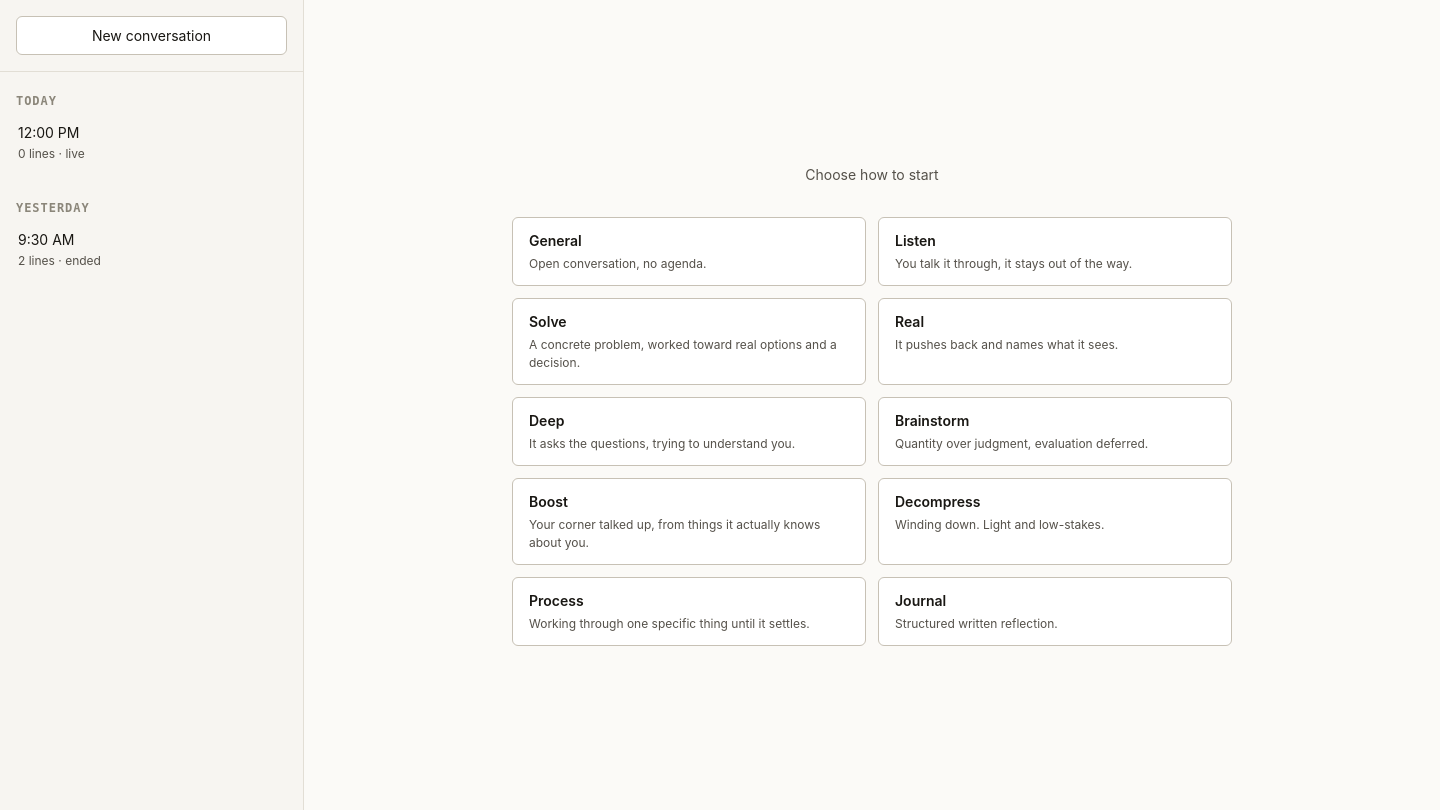
Test: Conversations › coalesces two consecutive text events into a single assistant message
The image size is (1440, 810).
Step 1. Click the button "general Open conversation, no agenda." → (555, 240), box [512,217,866,286]
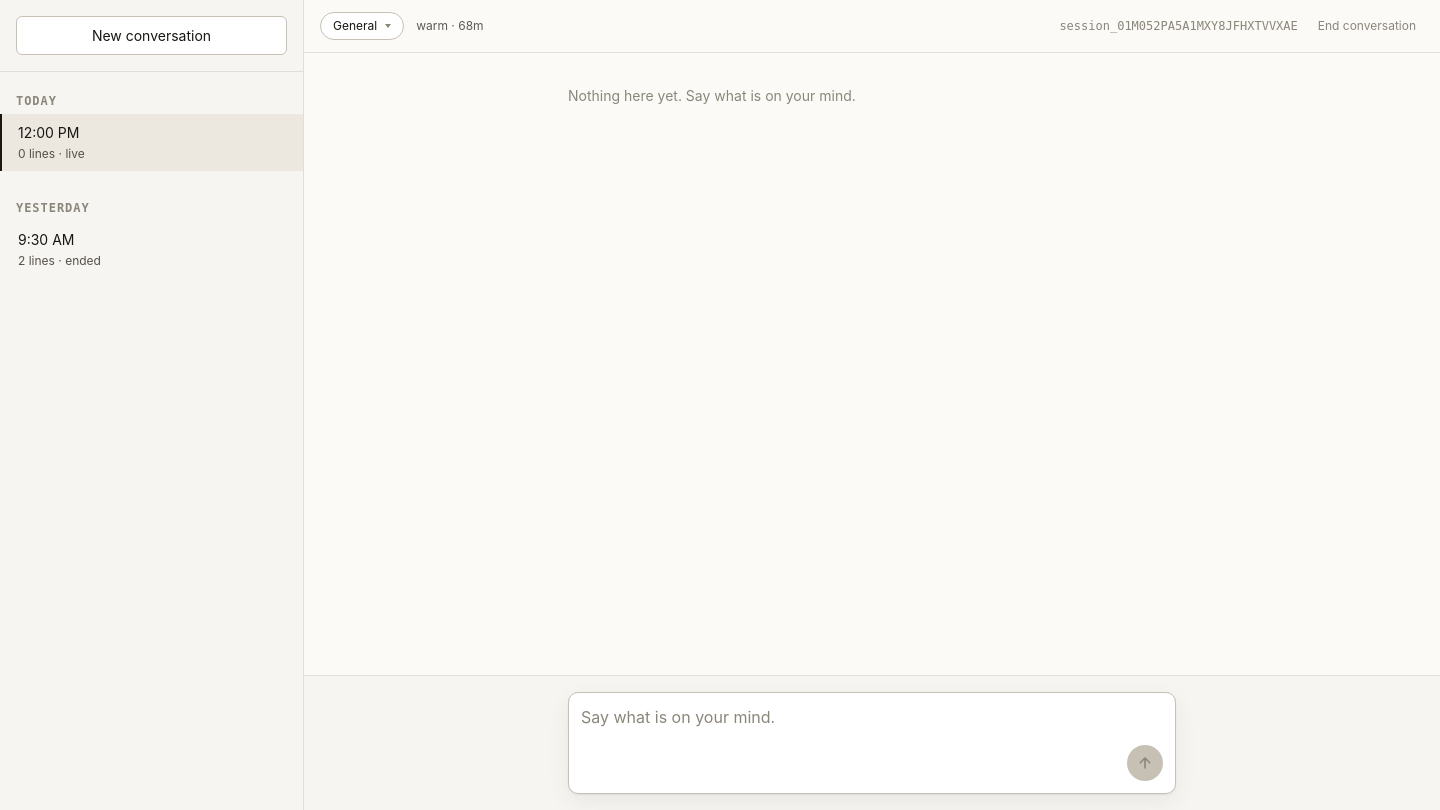
Step 2. Type "Hi" into the text box named "Message" → (854, 743), box [581,705,1127,781]
Then press Enter
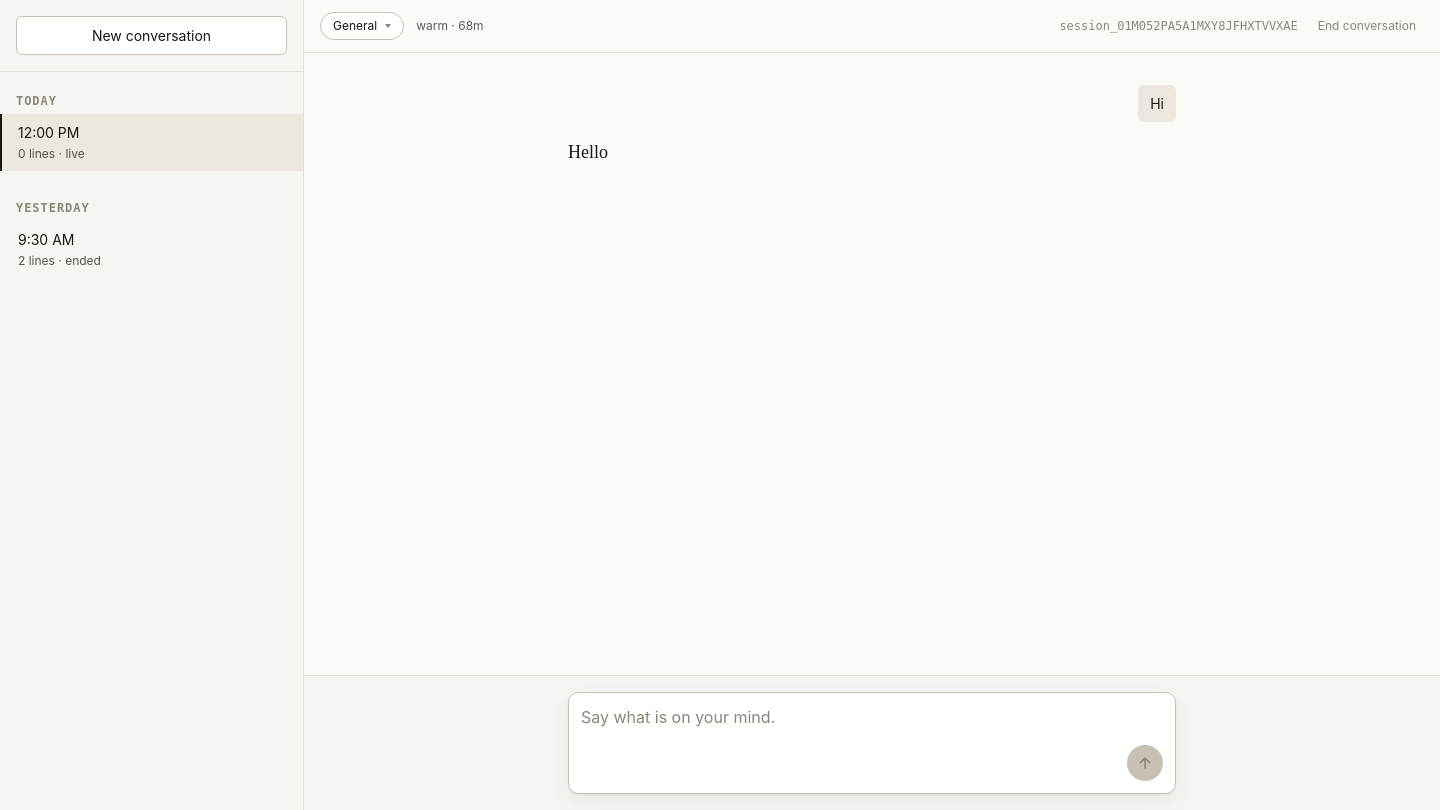
Result: the number of elements with class "message-assistant" is 1 at [567,141,622,162]
